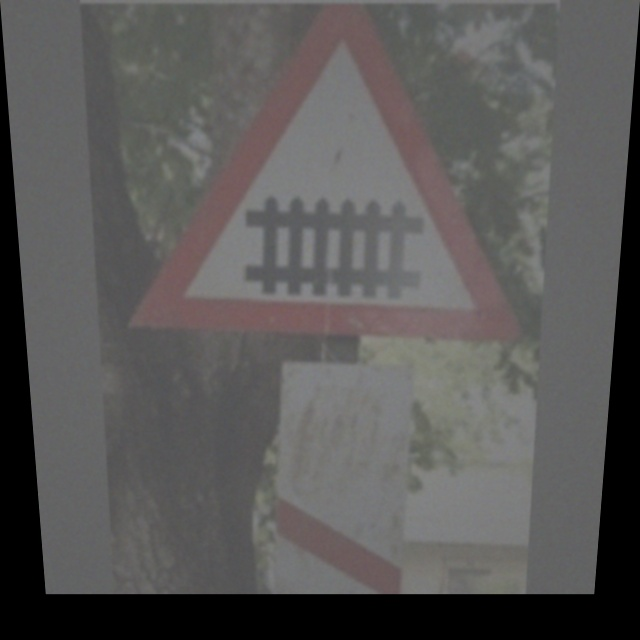Guarded_Level_Crossing: (135, 23, 518, 331)
